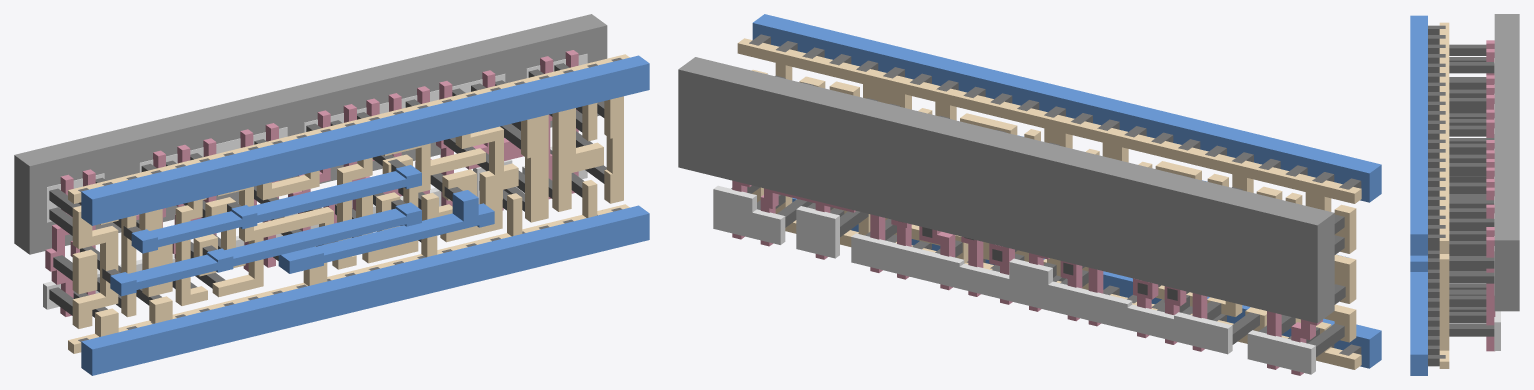
The model's file is sky130_fd_sc_hd__dfrbp_1.gds.gltf.
3 renders of one model, left to right at view 1: azimuth 30°, elevation 25°; view 2: azimuth 150°, elevation 25°; view 3: azimuth 270°, elevation 25°, orthographic. The views are drawn at different scales.
Visible parts, largest first — view 1: sky130_fd_sc_hd__dfrbp_1_met1, sky130_fd_sc_hd__dfrbp_1_li1, sky130_fd_sc_hd__dfrbp_1_nwell, sky130_fd_sc_hd__dfrbp_1_poly, sky130_fd_sc_hd__dfrbp_1_licon, sky130_fd_sc_hd__dfrbp_1_diff, sky130_fd_sc_hd__dfrbp_1_mcon; view 2: sky130_fd_sc_hd__dfrbp_1_nwell, sky130_fd_sc_hd__dfrbp_1_li1, sky130_fd_sc_hd__dfrbp_1_diff, sky130_fd_sc_hd__dfrbp_1_met1, sky130_fd_sc_hd__dfrbp_1_poly, sky130_fd_sc_hd__dfrbp_1_licon, sky130_fd_sc_hd__dfrbp_1_mcon; view 3: sky130_fd_sc_hd__dfrbp_1_licon, sky130_fd_sc_hd__dfrbp_1_nwell, sky130_fd_sc_hd__dfrbp_1_met1, sky130_fd_sc_hd__dfrbp_1_mcon, sky130_fd_sc_hd__dfrbp_1_li1, sky130_fd_sc_hd__dfrbp_1_poly, sky130_fd_sc_hd__dfrbp_1_diff.
Boxes of the visible parts, box(x1,y1,x2,y2) form: sky130_fd_sc_hd__dfrbp_1_met1: box(81, 55, 649, 375); sky130_fd_sc_hd__dfrbp_1_li1: box(68, 54, 629, 353); sky130_fd_sc_hd__dfrbp_1_nwell: box(14, 14, 607, 254); sky130_fd_sc_hd__dfrbp_1_poly: box(45, 50, 578, 316); sky130_fd_sc_hd__dfrbp_1_licon: box(49, 63, 606, 317); sky130_fd_sc_hd__dfrbp_1_diff: box(43, 54, 587, 309); sky130_fd_sc_hd__dfrbp_1_mcon: box(78, 58, 622, 342); sky130_fd_sc_hd__dfrbp_1_nwell: box(678, 57, 1334, 323); sky130_fd_sc_hd__dfrbp_1_li1: box(737, 38, 1361, 369); sky130_fd_sc_hd__dfrbp_1_diff: box(713, 185, 1315, 374); sky130_fd_sc_hd__dfrbp_1_met1: box(752, 14, 1381, 368); sky130_fd_sc_hd__dfrbp_1_poly: box(732, 180, 1322, 375); sky130_fd_sc_hd__dfrbp_1_licon: box(731, 75, 1345, 357); sky130_fd_sc_hd__dfrbp_1_mcon: box(749, 34, 1361, 355); sky130_fd_sc_hd__dfrbp_1_licon: box(1449, 44, 1494, 336); sky130_fd_sc_hd__dfrbp_1_nwell: box(1494, 14, 1519, 311); sky130_fd_sc_hd__dfrbp_1_met1: box(1410, 15, 1427, 375); sky130_fd_sc_hd__dfrbp_1_mcon: box(1428, 25, 1445, 366); sky130_fd_sc_hd__dfrbp_1_li1: box(1439, 22, 1449, 368); sky130_fd_sc_hd__dfrbp_1_poly: box(1486, 40, 1495, 351); sky130_fd_sc_hd__dfrbp_1_diff: box(1494, 58, 1500, 350).
Size of the model in its own units: 10.96 by 3.2 by 2.24.
